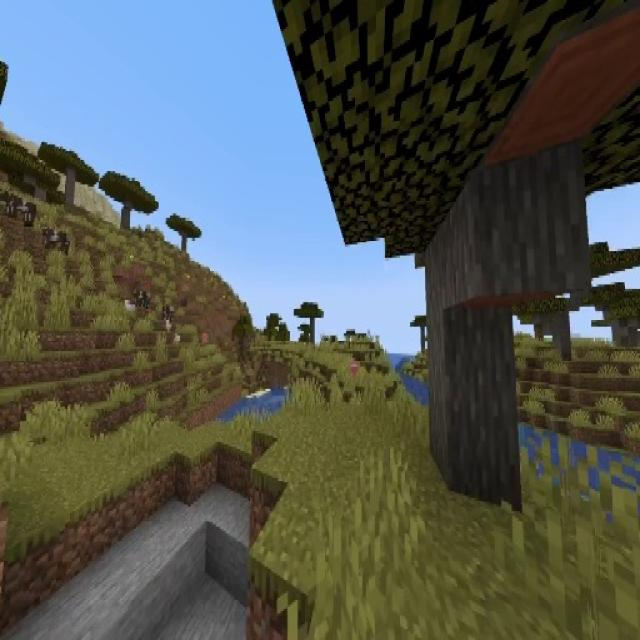acacia: (38, 139, 98, 207), (99, 170, 157, 232), (166, 213, 201, 254)
acacia_log: (425, 189, 525, 503), (454, 148, 574, 309), (558, 313, 569, 357), (66, 170, 74, 210), (122, 199, 132, 231), (543, 314, 556, 333)
